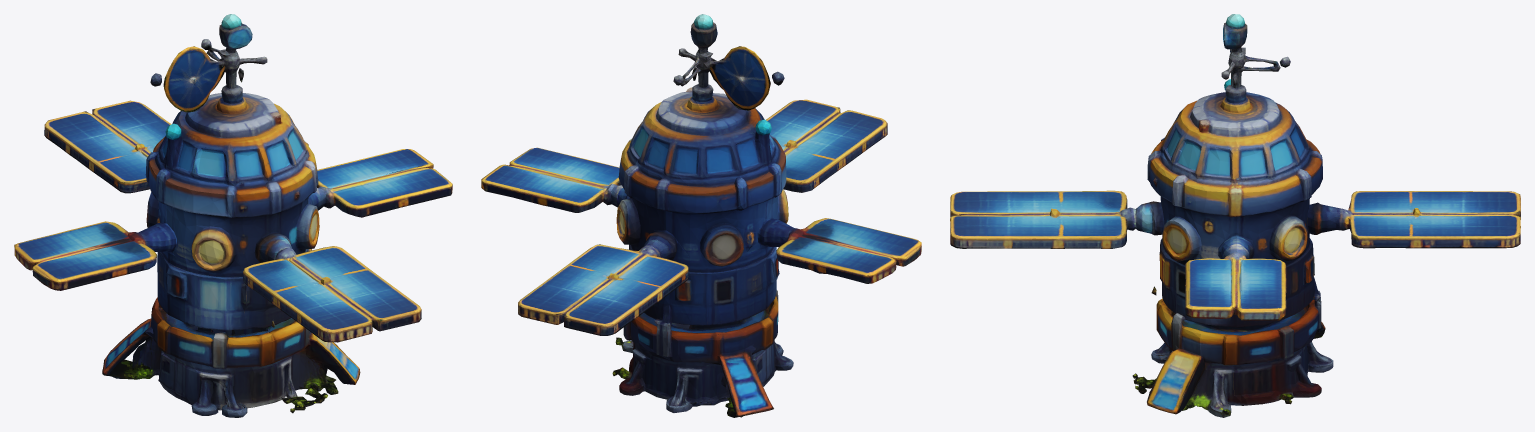
3 renders of one model, left to right at view 1: azimuth 30°, elevation 25°; view 2: azimuth 150°, elevation 25°; view 3: azimuth 270°, elevation 25°, orthographic.
Visible parts, largest first — view 1: world; view 2: world; view 3: world.
Boxes of the visible parts, x1,y1,x2,y2 form: world: (14,14,452,417); world: (481,14,921,417); world: (950,14,1520,417).
Bounding box in the file's own units: 0.8154 × 0.7034 × 1.
1 material, 1 textured.
